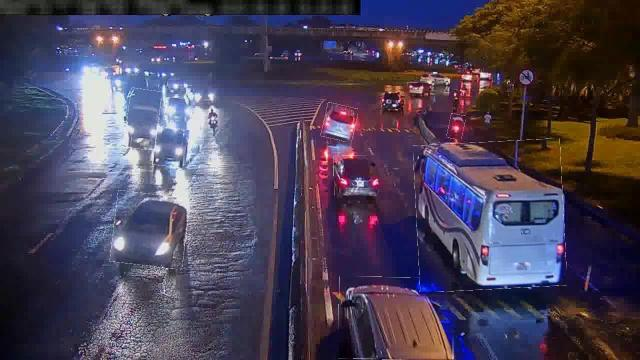Bike: (448, 115, 464, 140), (208, 110, 220, 134)
Bus: (415, 140, 565, 292)
Car: (338, 276, 454, 360), (112, 192, 188, 267), (334, 156, 378, 196), (154, 127, 192, 167), (323, 104, 357, 140), (166, 98, 192, 120), (384, 90, 402, 110), (408, 83, 428, 95)
Truck: (126, 88, 160, 150)
